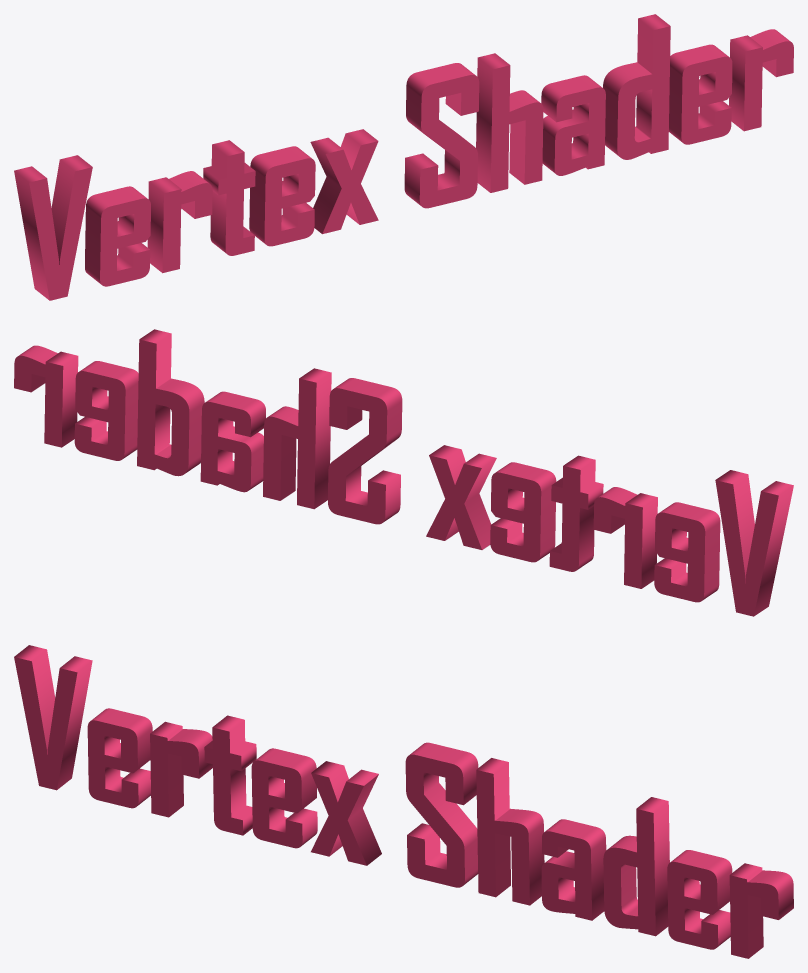
3 renders of one model, top to bottom at view 1: azimuth 30°, elevation 25°; view 2: azimuth 150°, elevation 25°; view 3: azimuth 330°, elevation 25°, orthographic.
Parts seen in each view (by area): view 1: Text; view 2: Text; view 3: Text.
Boxes of the visible parts, x1,y1,x2,y2 form: Text: (14, 14, 793, 300); Text: (14, 329, 793, 616); Text: (14, 645, 793, 958).
Bounding box in the file's own units: 4.08 × 0.6449 × 0.1606.
